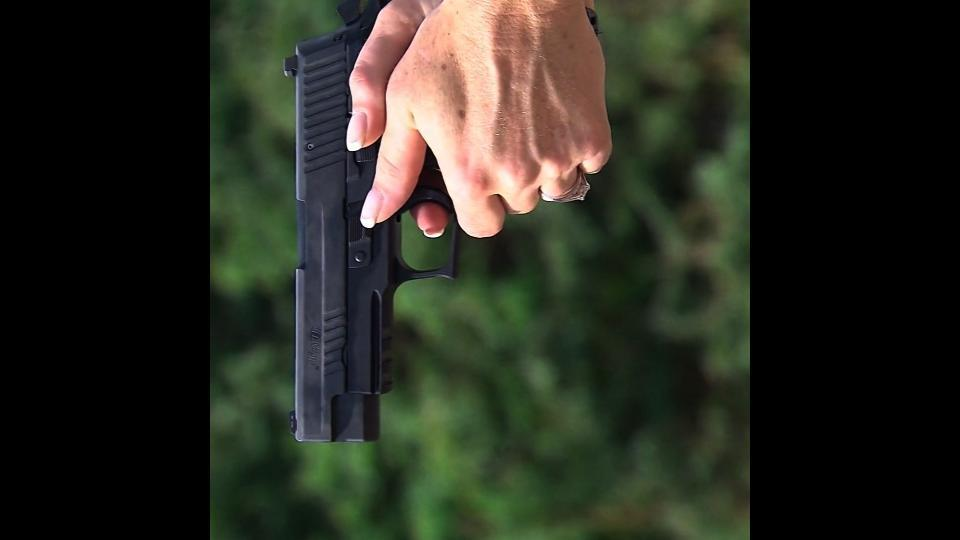gun: (275, 0, 504, 448)
